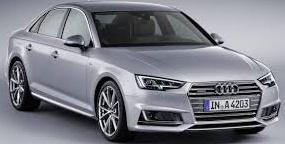Cars: (8, 3, 279, 141)
